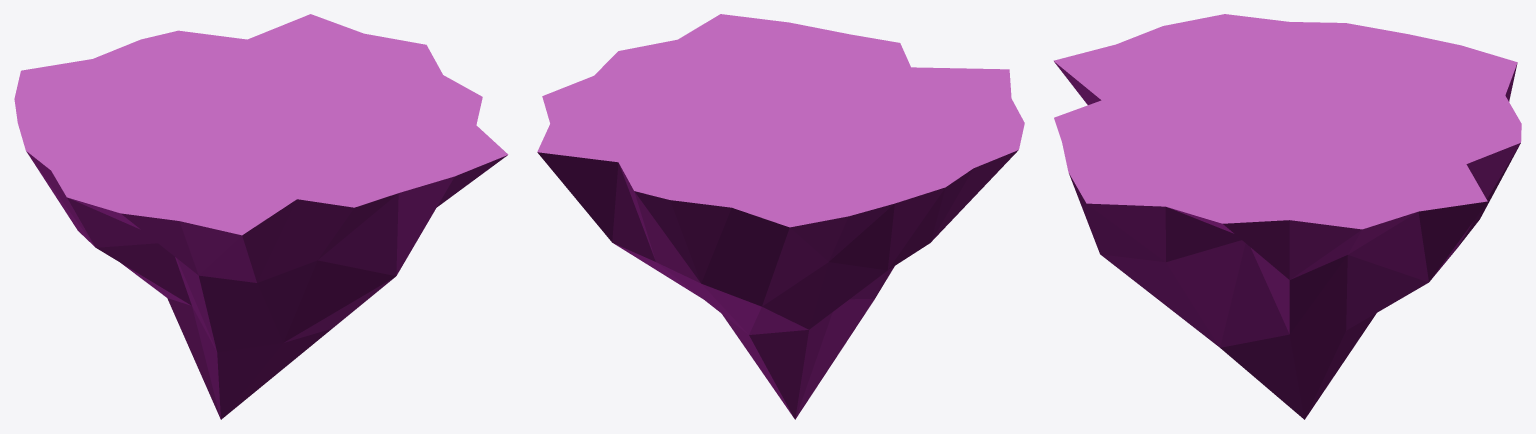
Rendered from Crystal Island.fbx.
The picture shows the model from 3 angles, left to right: view 1: azimuth 30°, elevation 25°; view 2: azimuth 150°, elevation 25°; view 3: azimuth 270°, elevation 25°; orthographic projection. The views are drawn at different scales.
Parts seen in each view (by area): view 1: Crystal Biome; view 2: Crystal Biome; view 3: Crystal Biome.
Part boxes in pixels (bbox=[...]): Crystal Biome: bbox=[14, 14, 508, 419]; Crystal Biome: bbox=[537, 14, 1024, 419]; Crystal Biome: bbox=[1053, 14, 1521, 419].
Size of the model in its own units: 3058 by 2042 by 2809.
